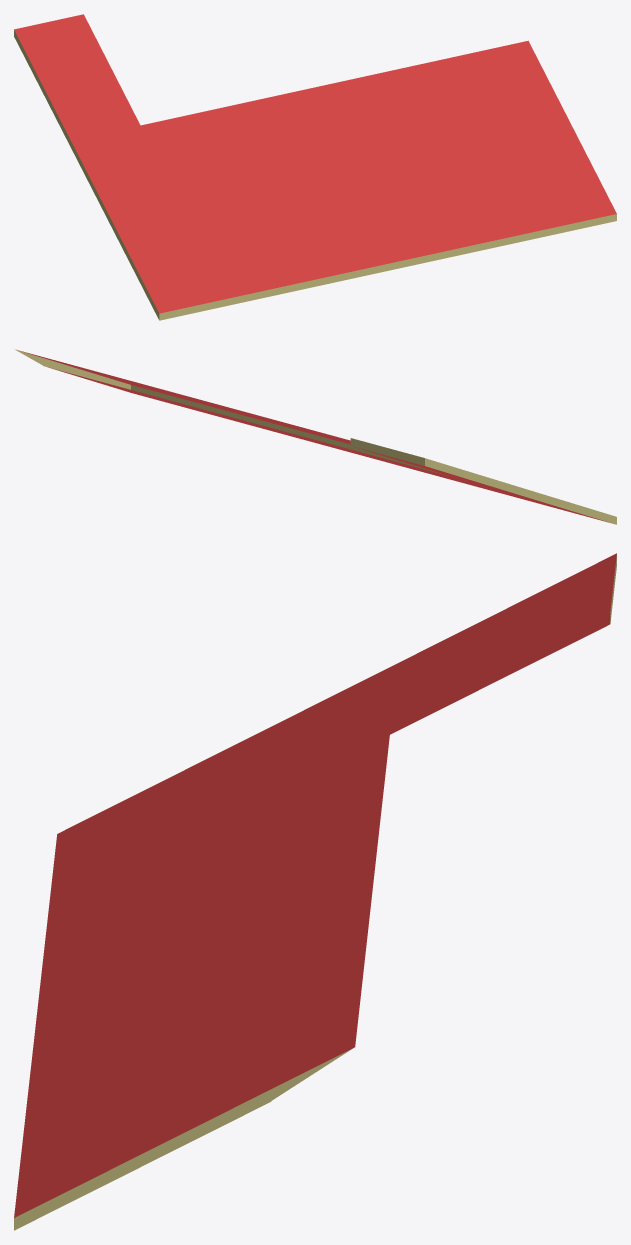
3 views of the same model, one above another, from view 1: azimuth 30°, elevation 25°; view 2: azimuth 150°, elevation 25°; view 3: azimuth 270°, elevation 25° (orthographic). The views are drawn at different scales.
Size of the model in its own units: 6.67 by 4.35 by 2.42.
